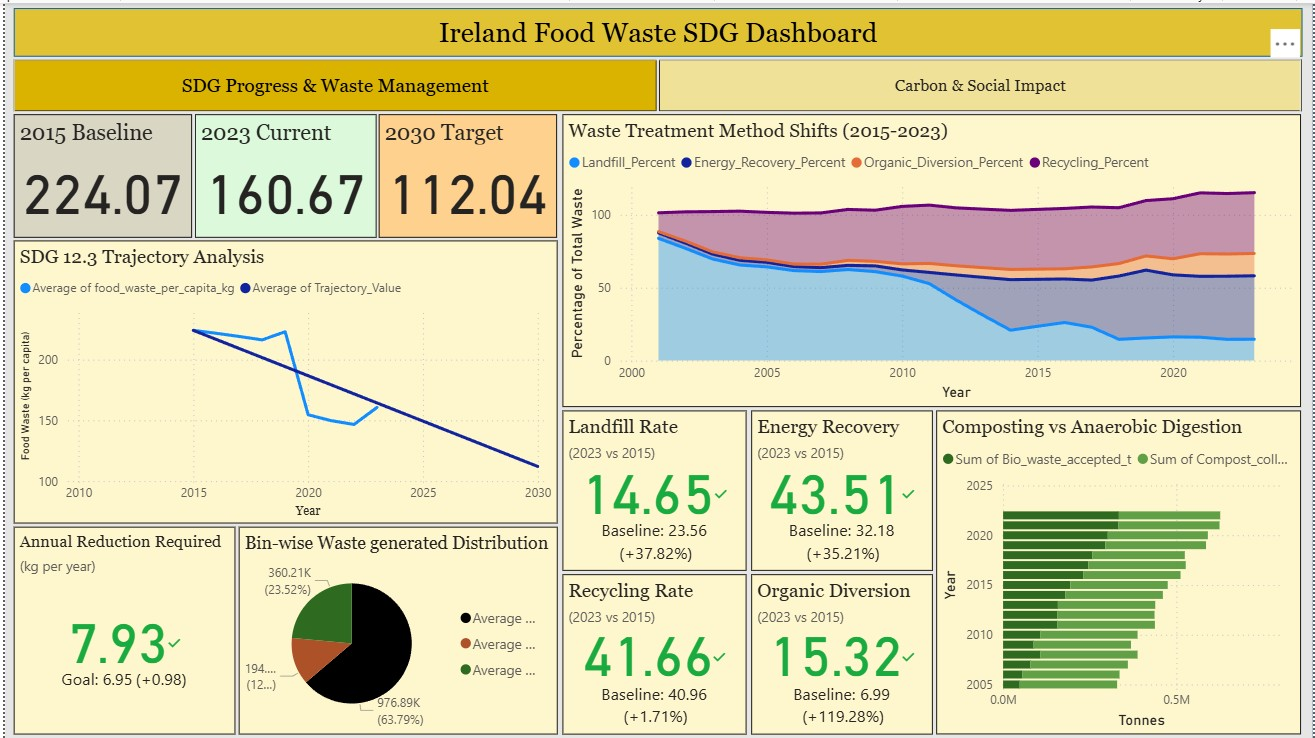

What the dashboard file says about the page in this screenshot:
{"tool":"powerbi","page":{"name":"SDG Progress & Waste Management","canvas":[1280,720],"ordinal":0},"visuals":[{"type":"group","id":"g1","title":"Page 1 layout","box":[0,0,1280.3,720.1],"z":0},{"type":"shape","title":"Background","box":[0,0,1280.3,720.1],"z":0,"group":"g1"},{"type":"shape","title":"Ireland Food Waste SDG Dashboard","box":[8.6,4.9,1260.7,47.7],"z":1000,"group":"g1"},{"type":"card","title":"2015 Baseline","fields":{"Values":["food_waste_per_capita.Baseline_2015"]},"box":[8.1,108.8,174.6,120.9],"z":1000},{"type":"pageNavigator","box":[8.1,55.1,1260.1,51],"z":2000,"group":"g1"},{"type":"card","title":"2023 Current","fields":{"Values":["food_waste_per_capita.Current_2023"]},"box":[185.4,108.8,177.3,120.9],"z":2000},{"type":"card","title":"2030 Target","fields":{"Values":["food_waste_per_capita.Target_2030"]},"box":[365.4,108.8,174.6,120.9],"z":3000},{"type":"lineChart","title":"SDG 12.3 Trajectory Analysis","fields":{"Y":["Avg(food_waste_per_capita.food_waste_per_capita_kg)","Avg(SDG_Trajectory.Trajectory_Value)"],"Category":["SDG_Trajectory.Value"]},"box":[8.1,232.4,532,276.7],"z":4000},{"type":"kpi","title":"Annual Reduction Required","fields":{"Goal":["food_waste_per_capita.Required_Reduction_Rate"],"TrendLine":["food_waste_per_capita.Year"],"Indicator":["food_waste_per_capita.Historical_Reduction_Rate"]},"box":[8.6,512.4,216.4,203],"z":5000},{"type":"kpi","title":"Landfill Rate","fields":{"Indicator":["Municipal_data.Current_Landfill_Rate"],"Goal":["Municipal_data.Baseline_Landfill_Rate"],"TrendLine":["Municipal_data.Year"]},"box":[545.1,398.4,180,157.2],"z":6000},{"type":"kpi","title":"Energy Recovery","fields":{"TrendLine":["Municipal_data.Year"],"Indicator":["Municipal_data.Current_Energy_Recovery_Rate"],"Goal":["Municipal_data.Baseline_Energy_Recovery_Rate"]},"box":[730.5,398.4,177.3,157.2],"z":7000},{"type":"kpi","title":"Recycling Rate","fields":{"TrendLine":["Municipal_data.Year"],"Indicator":["Municipal_data.Current_Recycling_Rate"],"Goal":["Municipal_data.Baseline_Recycling_Rate"]},"box":[545.4,558.8,179.8,156.5],"z":8000},{"type":"kpi","title":"Organic Diversion ","fields":{"TrendLine":["Municipal_data.Year"],"Indicator":["Municipal_data.Current_Organic_Diversion_Rate"],"Goal":["Municipal_data.Baseline_Organic_Diversion_Rate"]},"box":[730,558.8,177.3,156.5],"z":9000},{"type":"stackedAreaChart","title":"Waste Treatment Method Shifts (2015-2023)","fields":{"Category":["Municipal_data.Year"],"Y":["Municipal_data.Landfill_Percent","Municipal_data.Energy_Recovery_Percent","Municipal_data.Organic_Diversion_Percent","Municipal_data.Recycling_Percent"]},"box":[545.4,108.8,722.7,286.1],"z":10000},{"type":"barChart","title":"Composting vs Anaerobic Digestion","fields":{"Category":["Compost_Anaerobic_data.Year"],"Y":["Sum(Compost_Anaerobic_data.Bio_waste_accepted_t)","Sum(Compost_Anaerobic_data.Compost_collected_t)"]},"box":[911,398.6,357.1,316.7],"z":11000},{"type":"pieChart","title":"Bin-wise Waste generated Distribution","fields":{"Y":["Avg(Household_data.BlackBin_tonnes)","Avg(Household_data.Organic_tonnes)","Avg(Household_data.Recyclables_tonnes)"]},"box":[228.7,512.4,311.8,203],"z":12000}]}

Visuals, with their boxes in screenshot pixels (x1, y1, x2, y2), scaled from the page's 1280x720 canvas onto the 1315x738 screenshot:
"Page 1 layout" group: [left=0, top=0, right=1314, bottom=737]
"Background" shape: [left=0, top=0, right=1314, bottom=737]
"Ireland Food Waste SDG Dashboard" shape: [left=9, top=5, right=1304, bottom=54]
"2015 Baseline" card: [left=8, top=112, right=188, bottom=235]
pageNavigator: [left=8, top=56, right=1303, bottom=109]
"2023 Current" card: [left=190, top=112, right=373, bottom=235]
"2030 Target" card: [left=375, top=112, right=555, bottom=235]
"SDG 12.3 Trajectory Analysis" lineChart: [left=8, top=238, right=555, bottom=522]
"Annual Reduction Required" kpi: [left=9, top=525, right=231, bottom=733]
"Landfill Rate" kpi: [left=560, top=408, right=745, bottom=569]
"Energy Recovery" kpi: [left=750, top=408, right=933, bottom=569]
"Recycling Rate" kpi: [left=560, top=573, right=745, bottom=733]
"Organic Diversion " kpi: [left=750, top=573, right=932, bottom=733]
"Waste Treatment Method Shifts (2015-2023)" stackedAreaChart: [left=560, top=112, right=1303, bottom=405]
"Composting vs Anaerobic Digestion" barChart: [left=936, top=409, right=1303, bottom=733]
"Bin-wise Waste generated Distribution" pieChart: [left=235, top=525, right=555, bottom=733]
